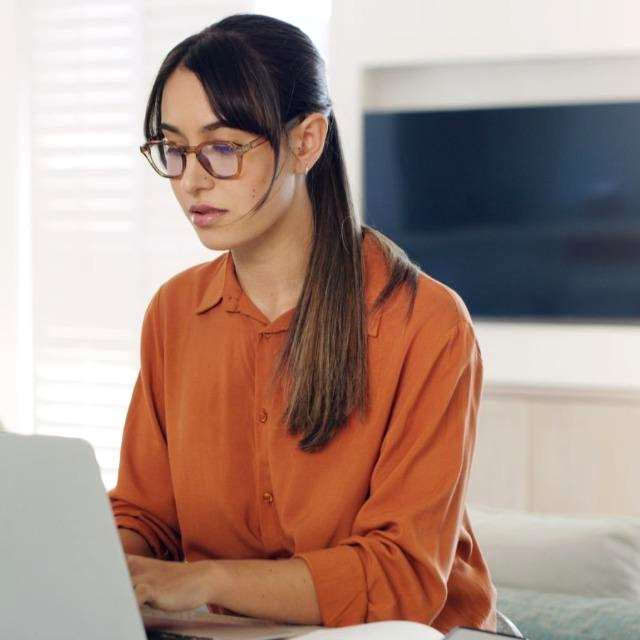Sin_Casco_Mascarrilla: (145, 14, 334, 248)
Sin_Chaleco: (133, 249, 468, 638)
